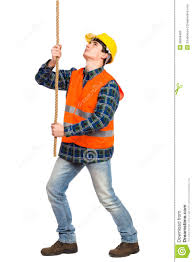hard hat: (84, 31, 117, 64)
high-vis: (64, 68, 122, 147)
